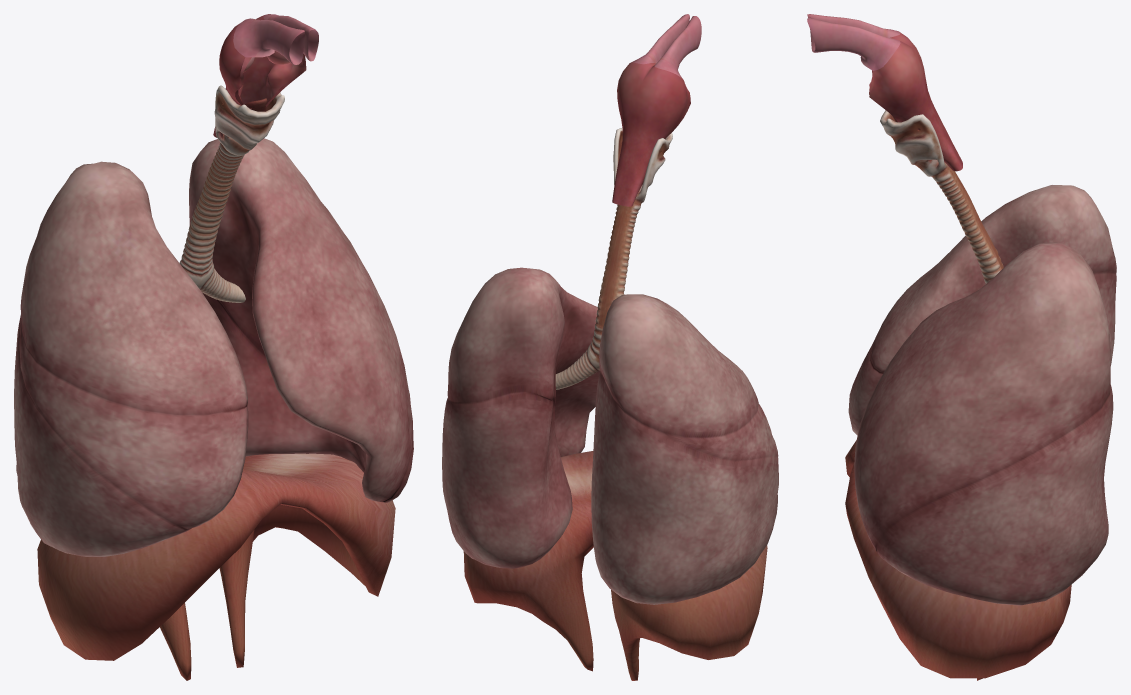
The model's file is Male_Respiratory_System.fbx.
3 renders of one model, left to right at view 1: azimuth 30°, elevation 25°; view 2: azimuth 150°, elevation 25°; view 3: azimuth 270°, elevation 25°, orthographic. The views are drawn at different scales.
Parts seen in each view (by area): view 1: Superior_Lobe (×2), Diaphragm, Inferior_Lobe (×2), Middle_Lobe, Trachea, Oropharynx, Right_Nasal, Cardiac_Notch, Body_of_Hyoid_Bone, Left_Main_Bronchus, Thyrohyoid_Membrane, Left_Nasal (+1 smaller); view 2: Inferior_Lobe (×2), Superior_Lobe (×2), Diaphragm, Oropharynx, Trachea, Middle_Lobe, Pharynx, Right_Nasal, Left_Nasal, Left_Main_Bronchus; view 3: Superior_Lobe (×2), Inferior_Lobe (×2), Diaphragm, Oropharynx, Left_Nasal, Trachea, Middle_Lobe, Thyroid_Cartillage, Pharynx, Thyrohyoid_Membrane, Right_Nasal.
Part boxes in pixels (left/top/right/bottom): Superior_Lobe (×2): left=20, top=138, right=412, bottom=498; Diaphragm: left=37, top=453, right=395, bottom=680; Inferior_Lobe (×2): left=14, top=292, right=413, bottom=556; Middle_Lobe: left=19, top=315, right=248, bottom=528; Trachea: left=179, top=143, right=244, bottom=276; Oropharynx: left=219, top=15, right=306, bottom=105; Right_Nasal: left=233, top=18, right=305, bottom=64; Cardiac_Notch: left=337, top=428, right=382, bottom=489; Body_of_Hyoid_Bone: left=218, top=85, right=284, bottom=124; Left_Main_Bronchus: left=200, top=268, right=245, bottom=302; Thyrohyoid_Membrane: left=215, top=87, right=275, bottom=140; Left_Nasal: left=263, top=14, right=318, bottom=61; Inferior_Lobe (×2): left=442, top=372, right=778, bottom=604; Superior_Lobe (×2): left=447, top=267, right=758, bottom=456; Diaphragm: left=463, top=451, right=767, bottom=680; Oropharynx: left=617, top=62, right=690, bottom=147; Trachea: left=590, top=201, right=641, bottom=358; Middle_Lobe: left=669, top=404, right=778, bottom=460; Pharynx: left=612, top=141, right=654, bottom=206; Right_Nasal: left=654, top=16, right=701, bottom=79; Left_Nasal: left=630, top=14, right=689, bottom=64; Left_Main_Bronchus: left=555, top=349, right=598, bottom=389; Superior_Lobe (×2): left=854, top=185, right=1116, bottom=546; Inferior_Lobe (×2): left=876, top=272, right=1116, bottom=605; Diaphragm: left=845, top=440, right=1071, bottom=680; Oropharynx: left=869, top=32, right=935, bottom=122; Left_Nasal: left=807, top=17, right=900, bottom=70; Trachea: left=931, top=167, right=1003, bottom=284; Middle_Lobe: left=848, top=345, right=883, bottom=435; Thyroid_Cartillage: left=895, top=131, right=943, bottom=164; Pharynx: left=918, top=109, right=962, bottom=171; Thyrohyoid_Membrane: left=886, top=114, right=935, bottom=148; Right_Nasal: left=807, top=14, right=900, bottom=37.
Size of the model in its own units: 27.53 by 53.89 by 23.17.
2 materials, 2 textured.
